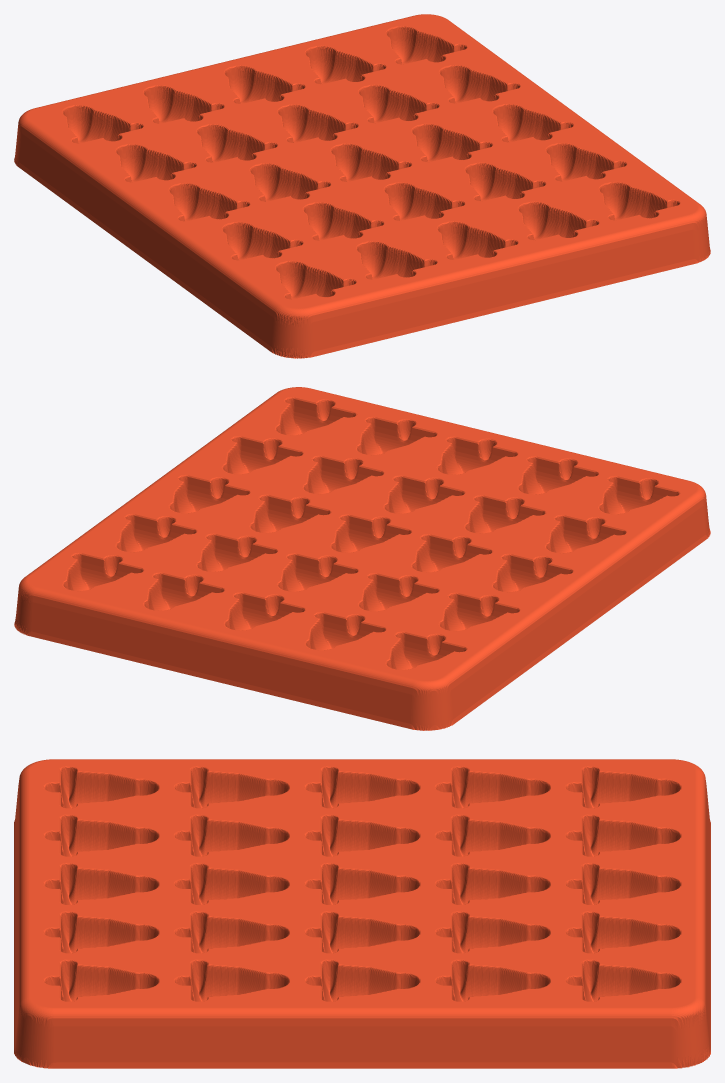
Rendered from mold.glb.
3 views of the same model, one above another, from view 1: azimuth 30°, elevation 25°; view 2: azimuth 150°, elevation 25°; view 3: azimuth 270°, elevation 25° (orthographic). The views are drawn at different scales.
Visible parts, largest first — view 1: geometry_0; view 2: geometry_0; view 3: geometry_0.
Part boxes in pixels (left/top/right/bottom): geometry_0: left=14, top=14, right=710, bottom=358; geometry_0: left=14, top=387, right=710, bottom=730; geometry_0: left=14, top=759, right=710, bottom=1068.
Size of the model in its own units: 0.1402 by 0.0136 by 0.1584.
